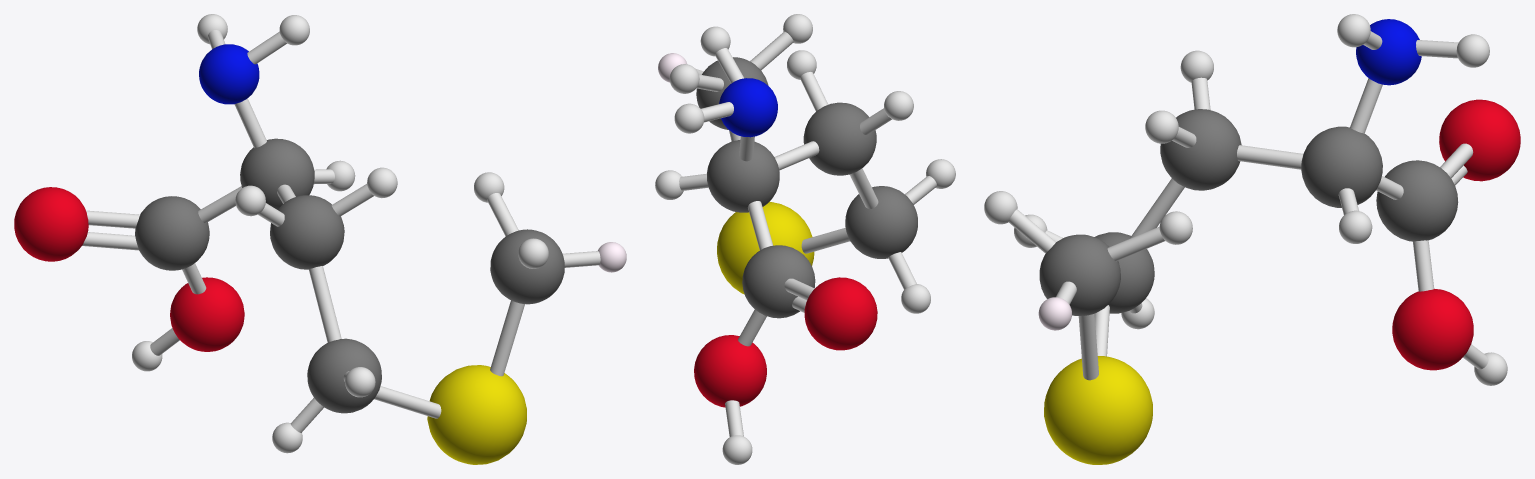
The model's file is Methionine_KANG.fbx.
3 renders of one model, left to right at view 1: azimuth 30°, elevation 25°; view 2: azimuth 150°, elevation 25°; view 3: azimuth 270°, elevation 25°, orthographic. The views are drawn at different scales.
Parts seen in each view (by area): view 1: Sphere.004, Sphere.002, Sphere.006, Sphere.001, Sphere.008, Sphere.005, Sphere.003, Sphere.007, Sphere, Cylinder, Cylinder.004, Cylinder.003 (+16 smaller); view 2: Sphere.002, Sphere.008, Sphere.003, Sphere.001, Sphere.004, Sphere.007, Sphere.006, Sphere, Sphere.005, Sphere.011, Sphere.020, Sphere.015 (+25 smaller); view 3: Sphere.004, Sphere.008, Sphere.007, Sphere.006, Sphere.002, Sphere.005, Sphere.001, Sphere, Sphere.003, Cylinder.002, Cylinder.004, Cylinder (+17 smaller).
Boxes of the visible parts, x1,y1,x2,y2 form: Sphere.004: (427, 365, 526, 464); Sphere.002: (14, 187, 88, 261); Sphere.006: (135, 196, 209, 270); Sphere.001: (270, 195, 344, 269); Sphere.008: (170, 277, 244, 351); Sphere.005: (490, 229, 564, 304); Sphere.003: (307, 338, 381, 413); Sphere.007: (240, 138, 314, 209); Sphere: (199, 44, 259, 104); Cylinder: (309, 266, 341, 342); Cylinder.004: (490, 300, 524, 376); Cylinder.003: (374, 386, 441, 418); Sphere.002: (804, 277, 877, 350); Sphere.008: (694, 335, 766, 407); Sphere.003: (845, 186, 917, 258); Sphere.001: (803, 102, 876, 175); Sphere.004: (717, 201, 814, 294); Sphere.007: (707, 140, 779, 212); Sphere.006: (742, 245, 815, 318); Sphere: (719, 78, 777, 137); Sphere.005: (696, 57, 768, 129); Sphere.011: (674, 103, 704, 133); Sphere.020: (884, 91, 913, 120); Sphere.015: (669, 64, 699, 93); Sphere.004: (1044, 356, 1152, 464); Sphere.008: (1392, 289, 1473, 370); Sphere.007: (1301, 126, 1382, 207); Sphere.006: (1376, 160, 1458, 241); Sphere.002: (1439, 99, 1520, 181); Sphere.005: (1039, 234, 1120, 315); Sphere.001: (1160, 109, 1241, 190); Sphere: (1356, 19, 1421, 85); Sphere.003: (1094, 232, 1154, 313); Cylinder.002: (1237, 145, 1303, 169); Cylinder.004: (1078, 313, 1098, 380); Cylinder: (1130, 178, 1184, 238).
Bounding box in the file's own units: 401 × 353 × 414.
